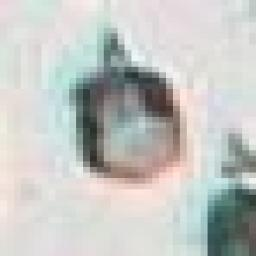crystals: (72, 24, 188, 192)
